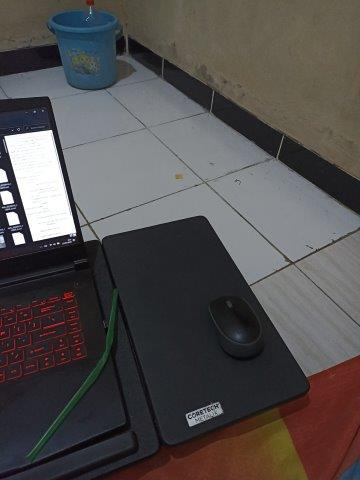sedotan: (27, 290, 118, 457)
